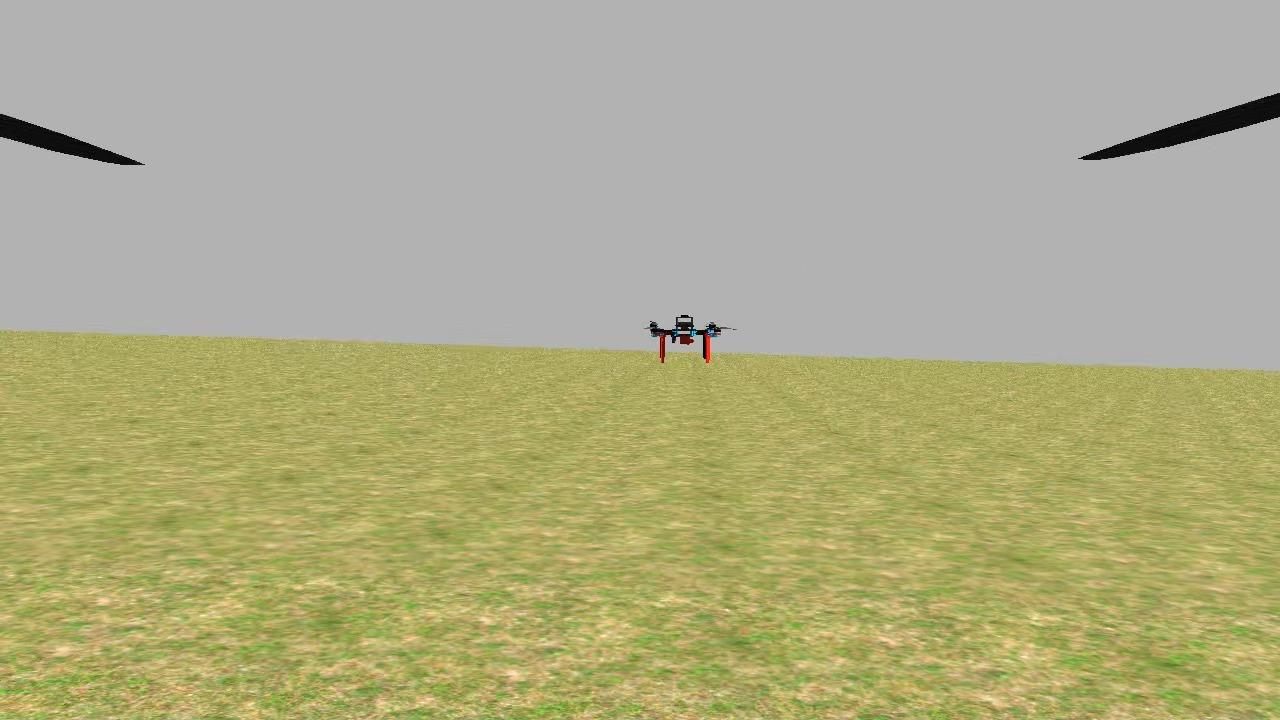UAV: (632, 308, 743, 383)
